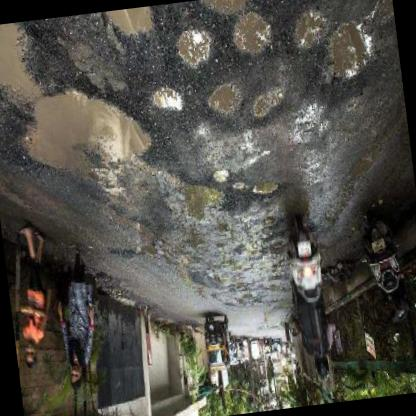pothole: (13, 80, 158, 193), (312, 17, 384, 98), (160, 170, 230, 232), (0, 22, 39, 103), (101, 9, 158, 50), (229, 12, 275, 62), (174, 29, 216, 75), (292, 9, 330, 56), (246, 84, 288, 126), (204, 84, 247, 122), (197, 0, 252, 22), (150, 87, 185, 117), (251, 180, 282, 201), (212, 168, 232, 186), (230, 181, 247, 191)
